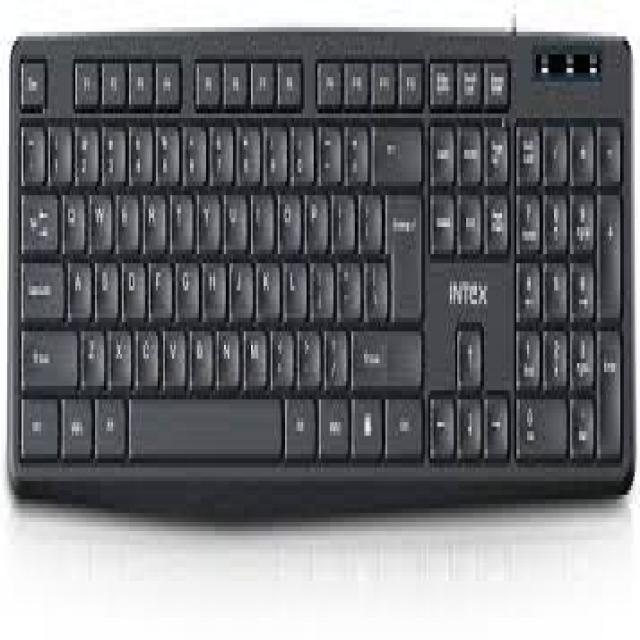others: (9, 9, 640, 545)
